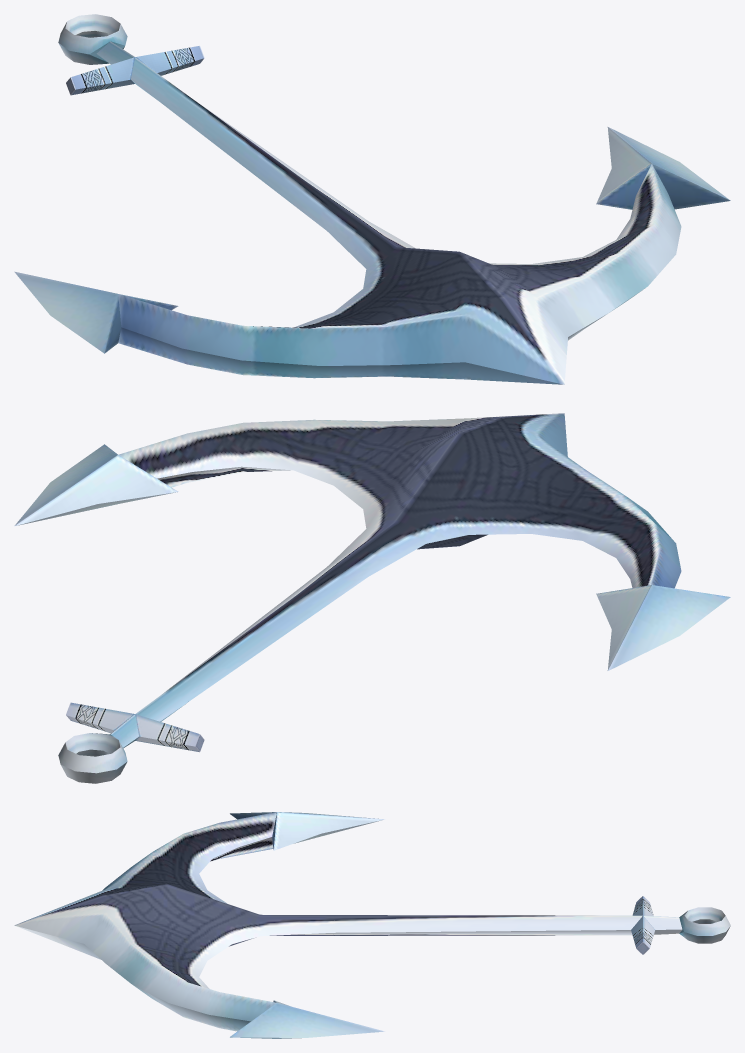
File: hammer0011.fbx
3 renders of one model, top to bottom at view 1: azimuth 30°, elevation 25°; view 2: azimuth 150°, elevation 25°; view 3: azimuth 270°, elevation 25°, orthographic. The views are drawn at different scales.
Parts seen in each view (by area): view 1: hammer0011_m; view 2: hammer0011_m; view 3: hammer0011_m.
Part boxes in pixels (left/top/right/bottom): hammer0011_m: left=14, top=14, right=730, bottom=384; hammer0011_m: left=14, top=413, right=730, bottom=783; hammer0011_m: left=14, top=812, right=730, bottom=1038.
Size of the model in its own units: 0.9404 by 0.1608 by 1.27.
